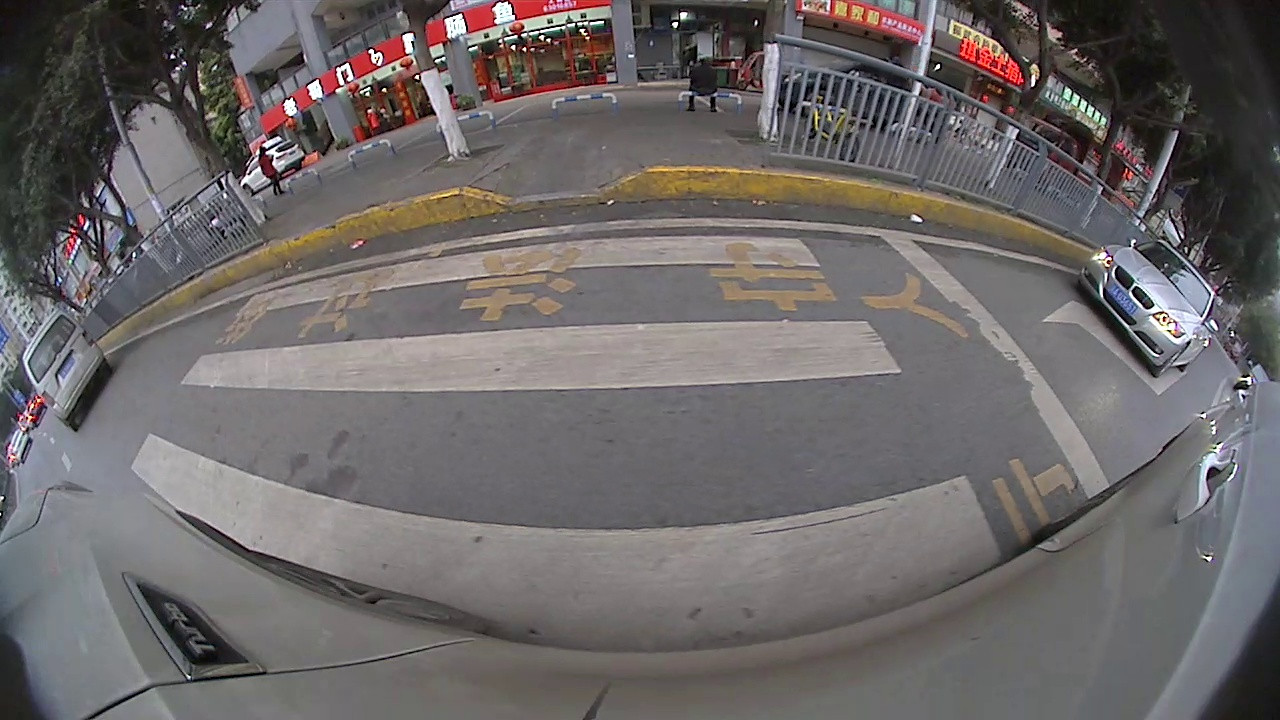car: (1073, 231, 1223, 378), (16, 312, 115, 430), (235, 133, 308, 201)
person: (684, 54, 724, 116), (253, 145, 290, 202)
